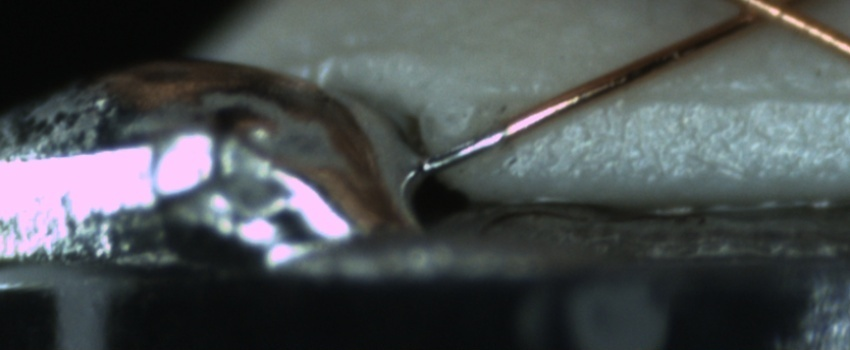CL: (709, 1, 826, 36)
DL: (466, 69, 849, 125)
TS: (423, 129, 511, 173)
